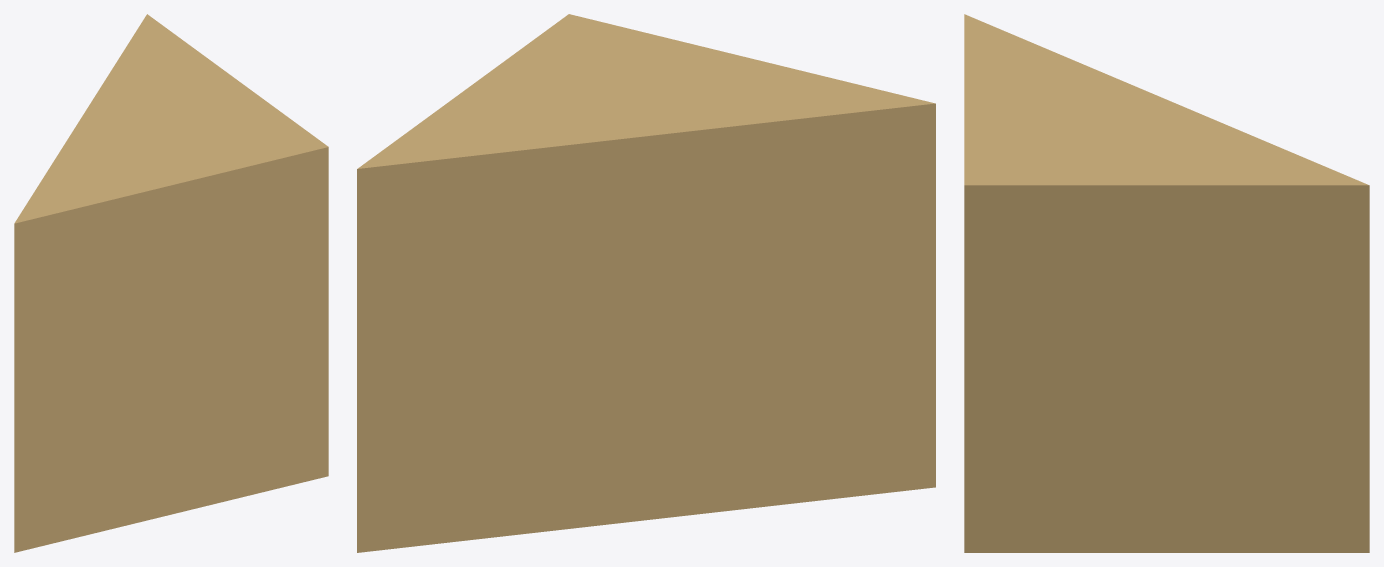
Rendered from BigTriangle.fbx.
3 views of the same model, side by side, from view 1: azimuth 30°, elevation 25°; view 2: azimuth 150°, elevation 25°; view 3: azimuth 270°, elevation 25° (orthographic). The views are drawn at different scales.
Visible parts, largest first — view 1: Cube; view 2: Cube; view 3: Cube.
Boxes of the visible parts, x1,y1,x2,y2 form: Cube: (14,14,328,552); Cube: (357,14,935,552); Cube: (964,14,1369,552).
Size of the model in its own units: 400 by 400 by 400.
